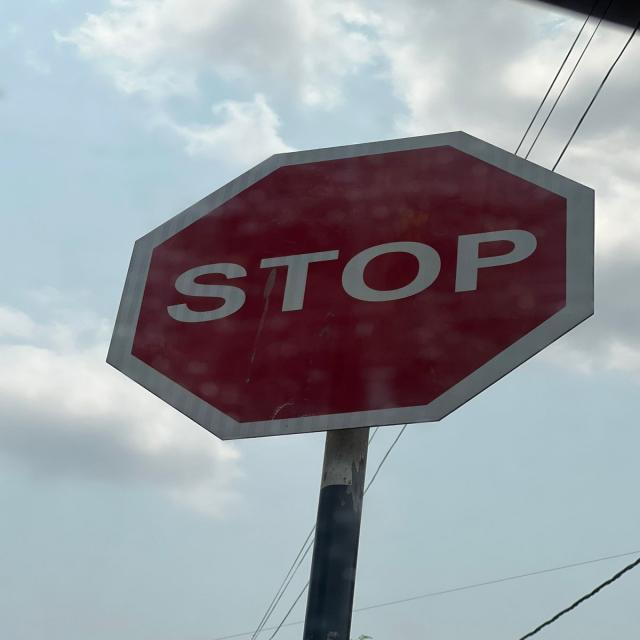stop: (99, 126, 602, 446)
